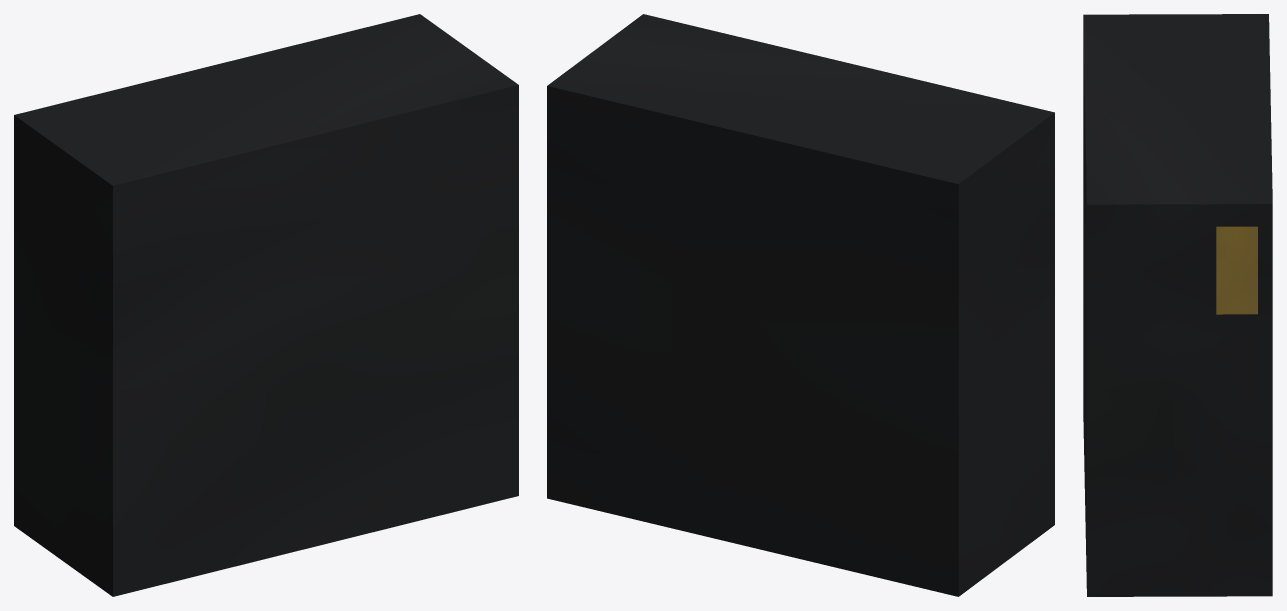
The picture shows the model from 3 angles, left to right: view 1: azimuth 30°, elevation 25°; view 2: azimuth 150°, elevation 25°; view 3: azimuth 270°, elevation 25°; orthographic projection. The views are drawn at different scales.
Visible parts, largest first — view 1: Pc; view 2: Pc; view 3: Pc.
Boxes of the visible parts, <box> form: Pc: <box>14,14,518,596</box>; Pc: <box>547,14,1054,596</box>; Pc: <box>1083,14,1272,596</box>.
Bounding box in the file's own units: 68.64 × 65.18 × 28.55.
